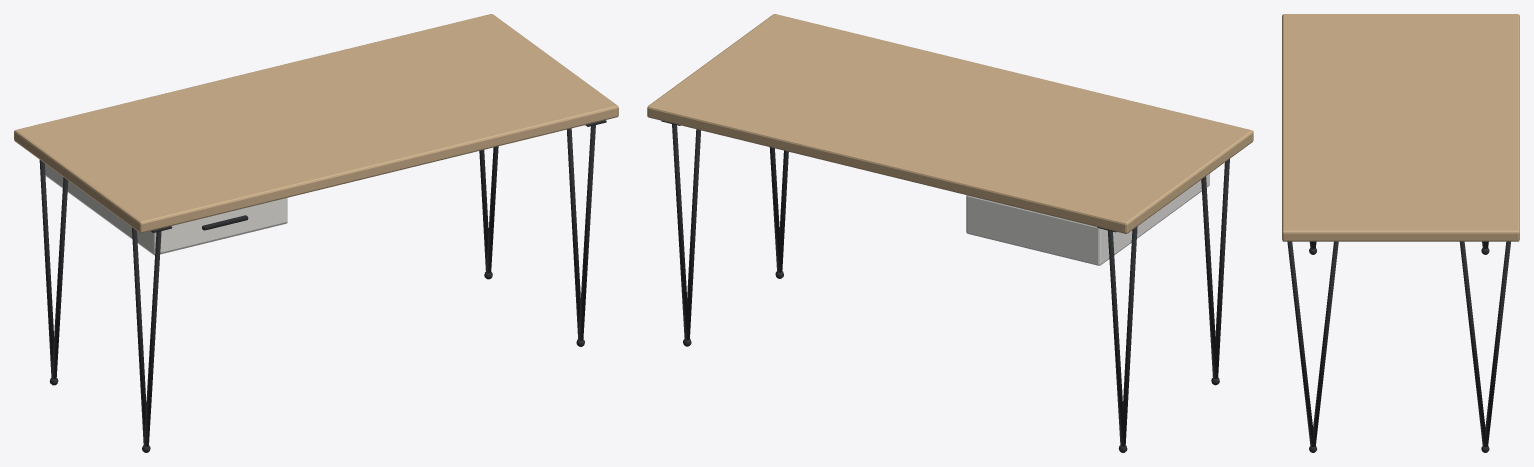
Rendered from deskSimple.glb.
3 views of the same model, side by side, from view 1: azimuth 30°, elevation 25°; view 2: azimuth 150°, elevation 25°; view 3: azimuth 270°, elevation 25° (orthographic). The views are drawn at different scales.
Parts seen in each view (by area): view 1: deskSimple; view 2: deskSimple; view 3: deskSimple.
Part boxes in pixels (x1=…): deskSimple: x1=14, y1=14, x2=618, y2=452; deskSimple: x1=647, y1=14, x2=1253, y2=452; deskSimple: x1=1282, y1=14, x2=1519, y2=452.
Bounding box in the file's own units: 1.5 × 0.74 × 0.69.
